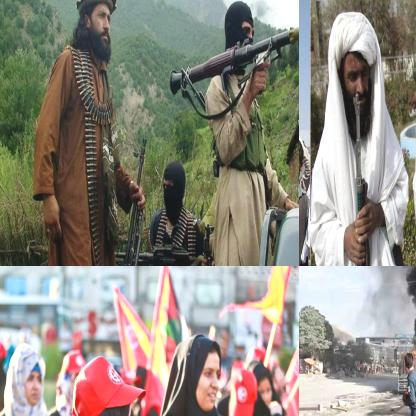rifle: (168, 5, 298, 97), (110, 137, 152, 265), (350, 91, 378, 265), (194, 220, 218, 265)
